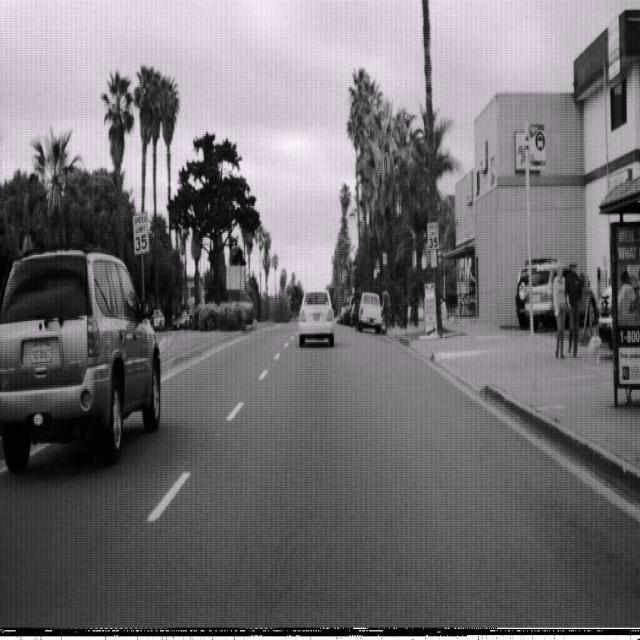speedLimit35: (132, 211, 149, 256), (426, 220, 439, 252)
